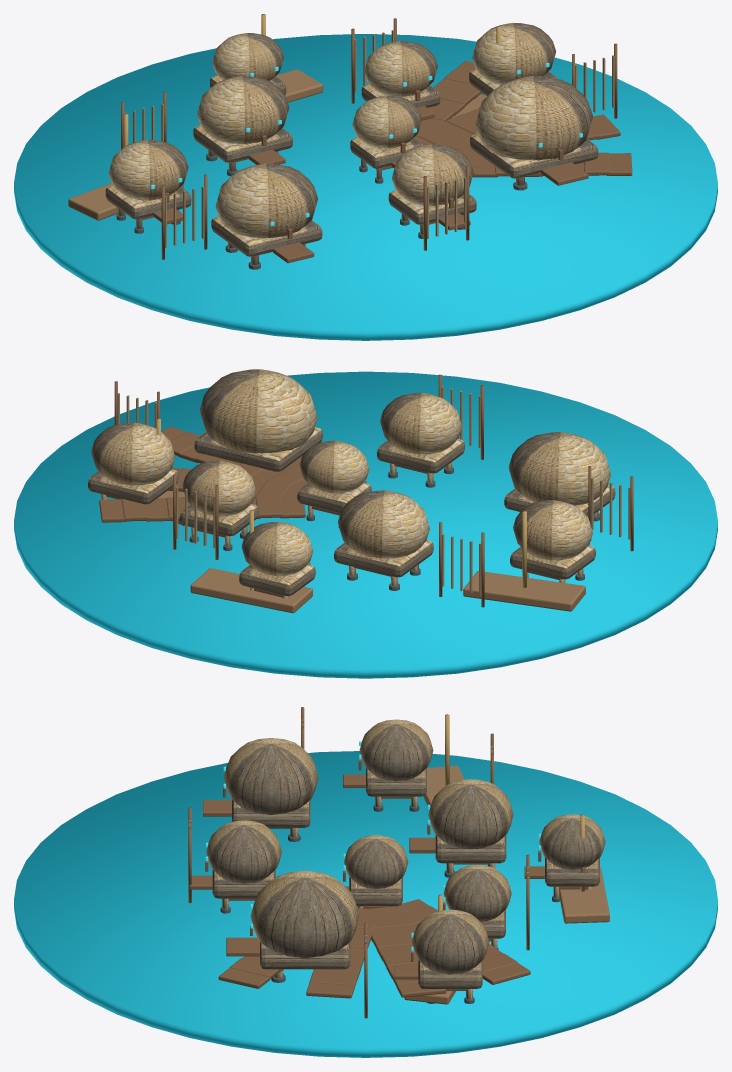
The model's file is purelake.glb.
3 views of the same model, one above another, from view 1: azimuth 30°, elevation 25°; view 2: azimuth 150°, elevation 25°; view 3: azimuth 270°, elevation 25° (orthographic).
Parts seen in each view (by area): view 1: Purelake_Water_Shelf, Purelake_Hut_2_Rockbud, Purelake_Hut_0_Rockbud, Purelake_Hut_3_Rockbud, Purelake_Hut_6_Rockbud, Purelake_Hut_5_Rockbud, Purelake_Hut_1_Rockbud, Purelake_Hut_4_Rockbud, Purelake_Hut_8_Rockbud, Purelake_Hut_7_Rockbud, Purelake_Hut_2_Floor, Purelake_Hut_0_Floor (+11 smaller); view 2: Purelake_Water_Shelf, Purelake_Hut_2_Rockbud, Purelake_Hut_0_Rockbud, Purelake_Hut_3_Rockbud, Purelake_Hut_6_Rockbud, Purelake_Hut_1_Rockbud, Purelake_Hut_5_Rockbud, Purelake_Hut_7_Rockbud, Purelake_Hut_4_Rockbud, Purelake_Raft_0, Purelake_Hut_8_Rockbud, Purelake_Raft_2 (+13 smaller); view 3: Purelake_Water_Shelf, Purelake_Hut_2_Rockbud, Purelake_Hut_0_Rockbud, Purelake_Hut_3_Rockbud, Purelake_Hut_6_Rockbud, Purelake_Hut_1_Rockbud, Purelake_Hut_5_Rockbud, Purelake_Hut_4_Rockbud, Purelake_Hut_7_Rockbud, Purelake_Hut_8_Rockbud, Purelake_Raft_2, Purelake_Hut_2_Floor (+14 smaller).
Part boxes in pixels (bbox=[...]): Purelake_Water_Shelf: bbox=[14, 34, 717, 340]; Purelake_Hut_2_Rockbud: bbox=[475, 76, 592, 160]; Purelake_Hut_0_Rockbud: bbox=[215, 163, 317, 237]; Purelake_Hut_3_Rockbud: bbox=[197, 76, 289, 143]; Purelake_Hut_6_Rockbud: bbox=[472, 23, 555, 84]; Purelake_Hut_5_Rockbud: bbox=[108, 140, 188, 200]; Purelake_Hut_1_Rockbud: bbox=[391, 144, 473, 205]; Purelake_Hut_4_Rockbud: bbox=[364, 41, 437, 96]; Purelake_Hut_8_Rockbud: bbox=[352, 95, 421, 148]; Purelake_Hut_7_Rockbud: bbox=[212, 33, 283, 80]; Purelake_Hut_2_Floor: bbox=[470, 134, 598, 178]; Purelake_Hut_0_Floor: bbox=[211, 216, 322, 256]; Purelake_Water_Shelf: bbox=[14, 371, 717, 678]; Purelake_Hut_2_Rockbud: bbox=[200, 369, 317, 453]; Purelake_Hut_0_Rockbud: bbox=[508, 432, 610, 505]; Purelake_Hut_3_Rockbud: bbox=[337, 490, 429, 558]; Purelake_Hut_6_Rockbud: bbox=[91, 422, 175, 485]; Purelake_Hut_1_Rockbud: bbox=[380, 392, 461, 454]; Purelake_Hut_5_Rockbud: bbox=[513, 500, 592, 560]; Purelake_Hut_7_Rockbud: bbox=[241, 521, 313, 575]; Purelake_Hut_4_Rockbud: bbox=[182, 460, 256, 516]; Purelake_Raft_0: bbox=[463, 571, 585, 611]; Purelake_Hut_8_Rockbud: bbox=[299, 440, 369, 493]; Purelake_Raft_2: bbox=[190, 568, 312, 613]; Purelake_Water_Shelf: bbox=[14, 751, 717, 1057]; Purelake_Hut_2_Rockbud: bbox=[250, 870, 359, 958]; Purelake_Hut_0_Rockbud: bbox=[224, 738, 318, 814]; Purelake_Hut_3_Rockbud: bbox=[428, 779, 513, 849]; Purelake_Hut_6_Rockbud: bbox=[412, 909, 489, 974]; Purelake_Hut_1_Rockbud: bbox=[206, 820, 281, 883]; Purelake_Hut_5_Rockbud: bbox=[359, 719, 433, 781]; Purelake_Hut_4_Rockbud: bbox=[443, 865, 511, 921]; Purelake_Hut_7_Rockbud: bbox=[539, 814, 605, 869]; Purelake_Hut_8_Rockbud: bbox=[344, 835, 408, 888]; Purelake_Raft_2: bbox=[559, 866, 609, 923]; Purelake_Hut_2_Floor: bbox=[260, 942, 350, 969].
Size of the model in its own units: 10.4 by 1.62 by 10.4.
8 materials, 1 textured.
